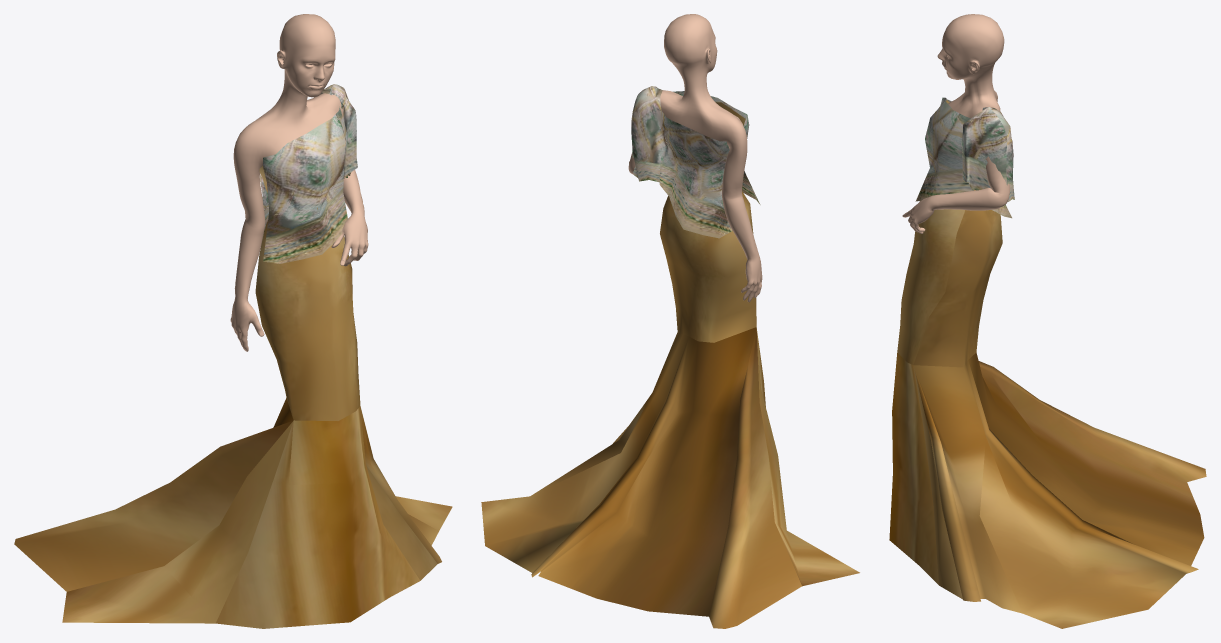
File: ThaiDress04.fbx
3 views of the same model, side by side, from view 1: azimuth 30°, elevation 25°; view 2: azimuth 150°, elevation 25°; view 3: azimuth 270°, elevation 25° (orthographic). The views are drawn at different scales.
Parts seen in each view (by area): view 1: ThaiDress04; view 2: ThaiDress04; view 3: ThaiDress04.
Boxes of the visible parts, x1,y1,x2,y2 form: ThaiDress04: [14, 14, 452, 628]; ThaiDress04: [481, 14, 859, 628]; ThaiDress04: [889, 14, 1206, 628].
Bounding box in the file's own units: 34.94 × 46.56 × 25.16.
2 materials, 1 textured.
